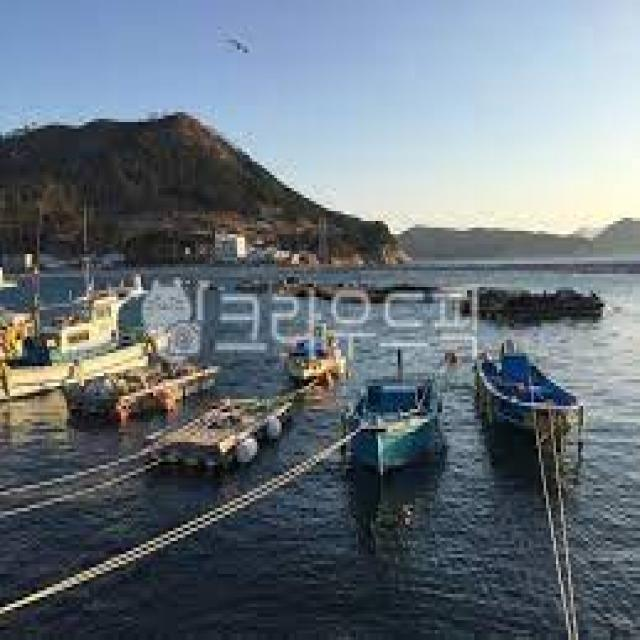Ship: (1, 291, 159, 394), (343, 341, 451, 486), (63, 328, 226, 421), (473, 334, 592, 456)
